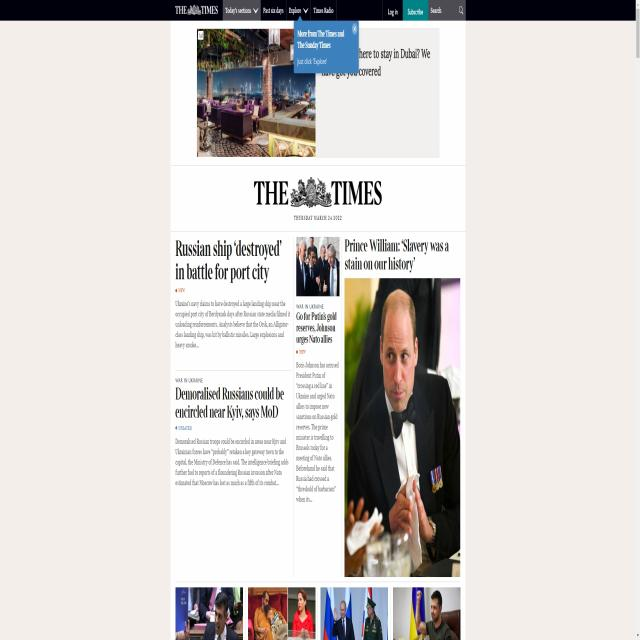menu-bar: (382, 1, 468, 20)
search: (428, 2, 464, 20)
tab-bar: (173, 1, 336, 20)
